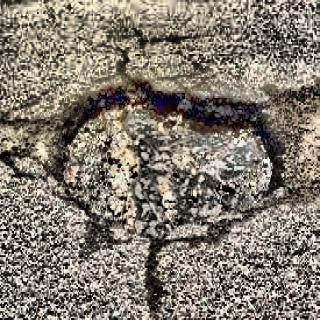pothole: (52, 83, 284, 245)
